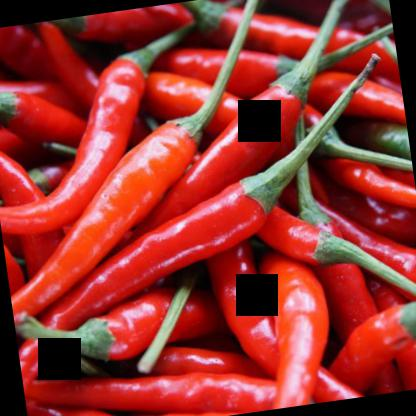chilli: (0, 49, 415, 403), (0, 0, 299, 325), (112, 0, 374, 236), (249, 245, 344, 408)
